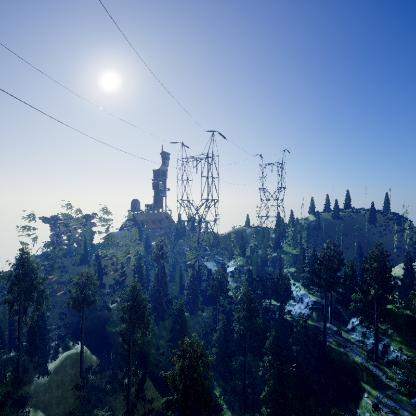tower: (171, 125, 229, 256), (256, 148, 291, 241)
